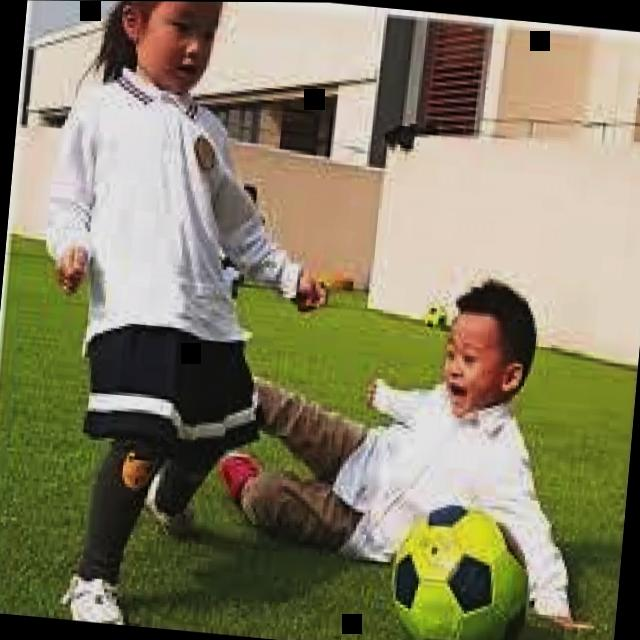Fall-Detected: (187, 224, 622, 640)
